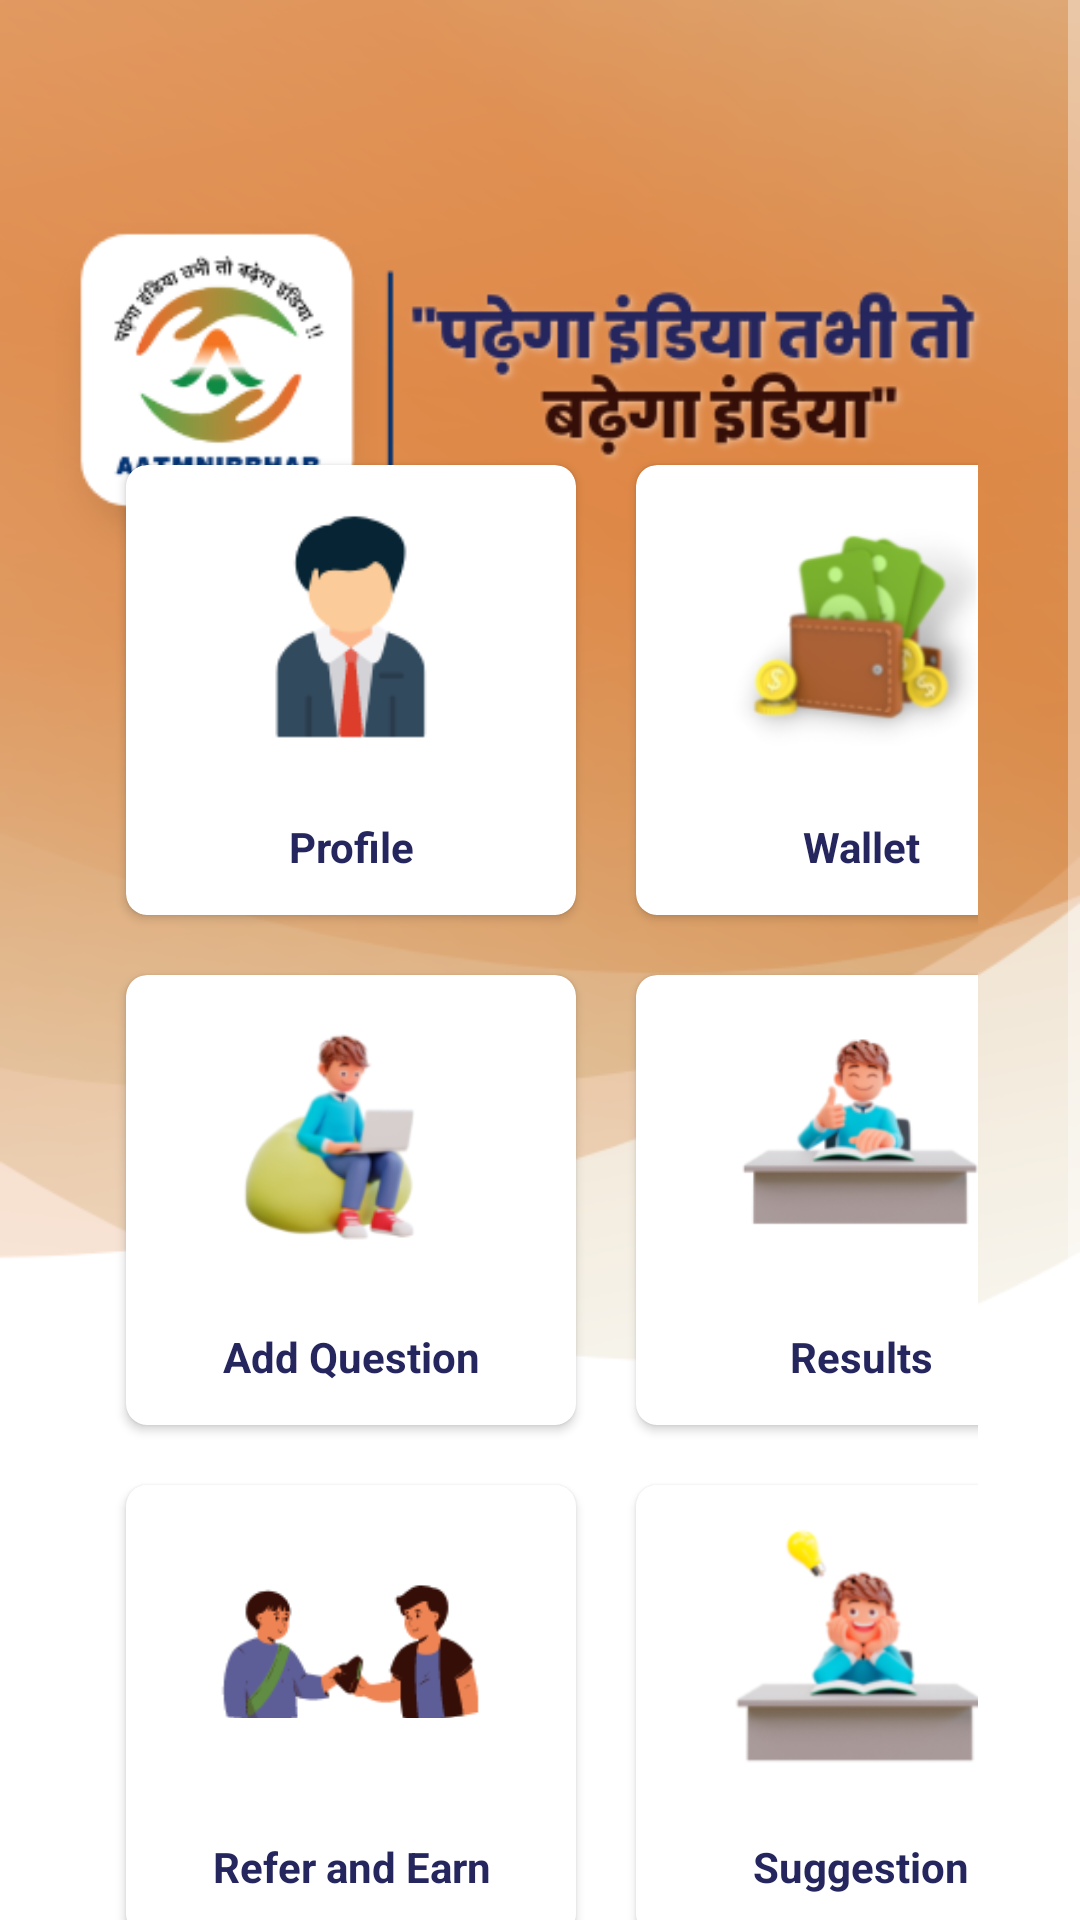

Icon bounding boxes for this 1080×1920 phone screenshot, format (x1, y1, x2, y2):
waltdashtchr: (752, 535, 964, 725)
